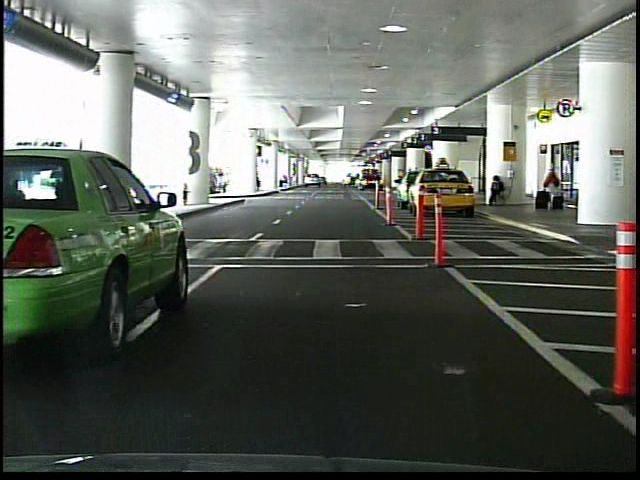car: (1, 140, 188, 357), (413, 170, 467, 213)
striscie pedonali: (189, 233, 577, 263)
